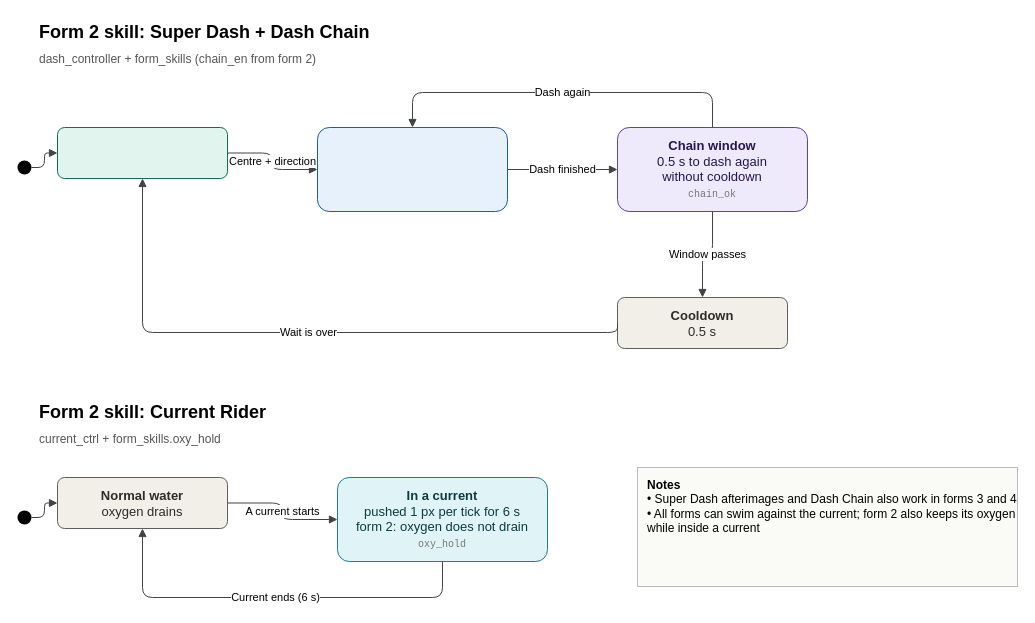
Image size: 1035x623. Some labels were removed from this diagram. Each missing label, with the centre of its shape:
"Dashing form 2: 10 ticks (3-4: 8) leaves afterimages dashing" goes at (412,169).
"Ready can dash" goes at (142,152).
